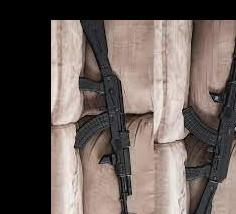larga: (73, 20, 133, 214), (182, 37, 236, 214)
